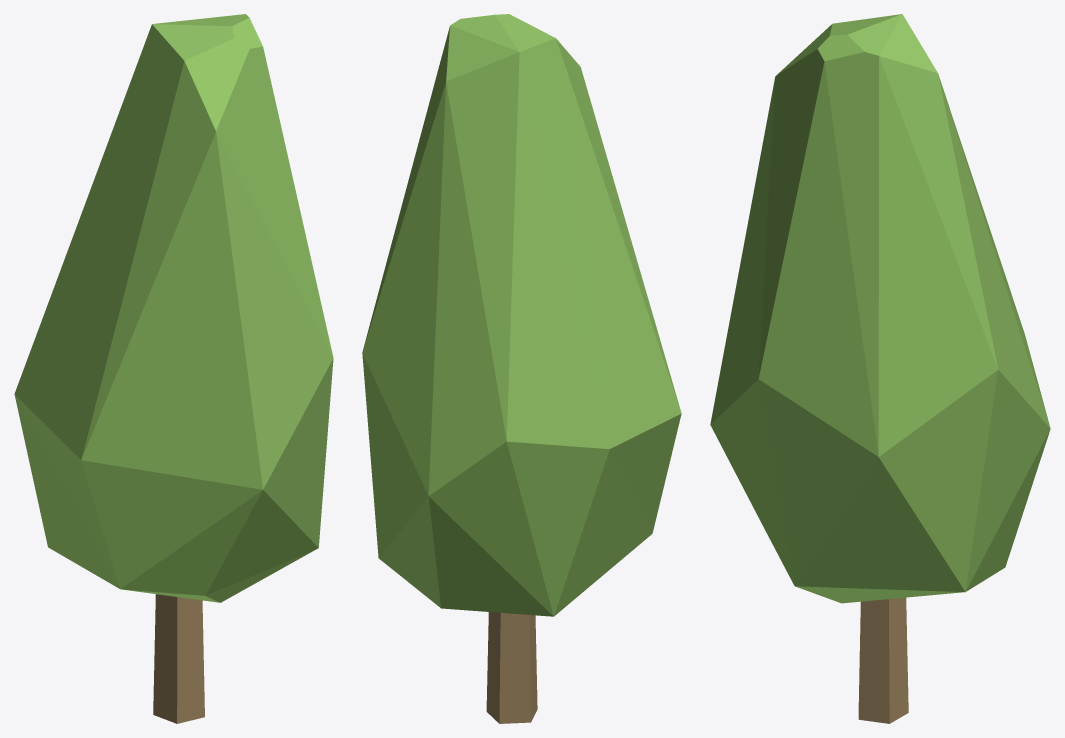
File: Thuja_Tree_s_03_LOD.fbx
The picture shows the model from 3 angles, left to right: view 1: azimuth 30°, elevation 25°; view 2: azimuth 150°, elevation 25°; view 3: azimuth 270°, elevation 25°; orthographic projection. The views are drawn at different scales.
Parts seen in each view (by area): view 1: Thuja_Tree_s_03_LOD0; view 2: Thuja_Tree_s_03_LOD0; view 3: Thuja_Tree_s_03_LOD0.
Boxes of the visible parts, <box> form: Thuja_Tree_s_03_LOD0: <box>14,14,333,723</box>; Thuja_Tree_s_03_LOD0: <box>362,14,681,723</box>; Thuja_Tree_s_03_LOD0: <box>710,14,1050,723</box>.
Size of what is drawn, in the model's own units: 108 by 252 by 112.
